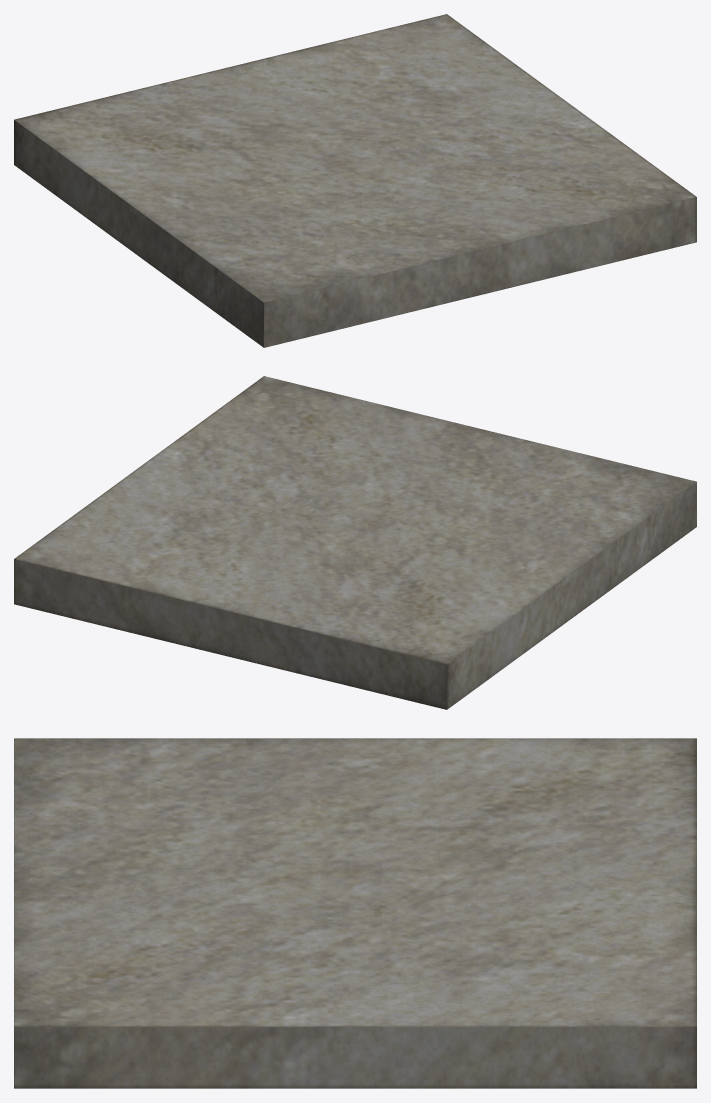
The model's file is paving_1_1x1_s1.fbx.
3 renders of one model, top to bottom at view 1: azimuth 30°, elevation 25°; view 2: azimuth 150°, elevation 25°; view 3: azimuth 270°, elevation 25°, orthographic. The views are drawn at different scales.
Parts seen in each view (by area): view 1: paving_1_1x1_s1; view 2: paving_1_1x1_s1; view 3: paving_1_1x1_s1.
Boxes of the visible parts, <box> form: paving_1_1x1_s1: <box>14,14,696,347</box>; paving_1_1x1_s1: <box>14,376,696,709</box>; paving_1_1x1_s1: <box>14,738,696,1088</box>.
Bounding box in the file's own units: 100 × 10 × 100.
